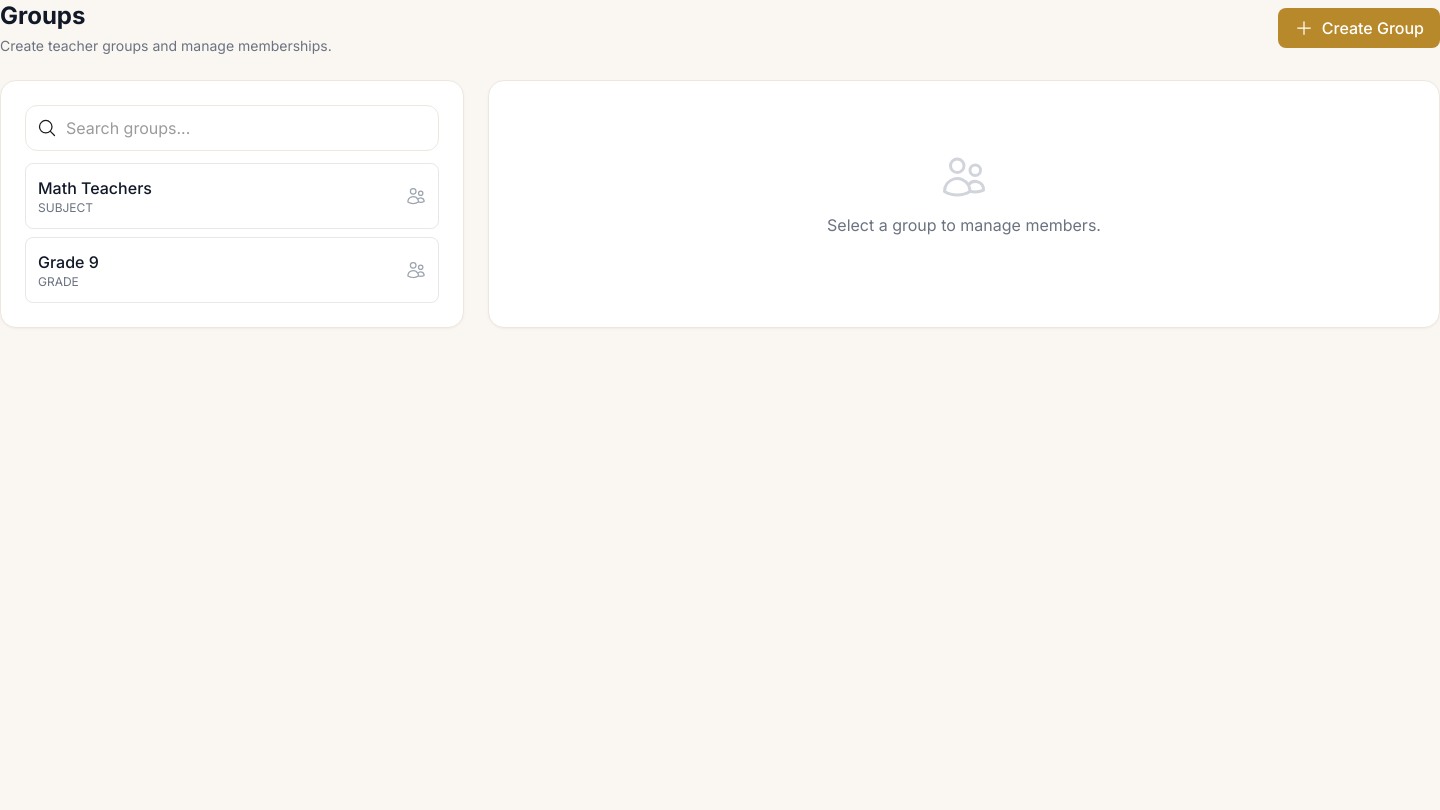
Test: GroupsPage › create group modal › submitting without a name shows Zod validation error
What coordinates should you click on to do the following:
click the button "Create Group"
I would click on:
 (1359, 28)
Its box is [1278,8,1439,48].
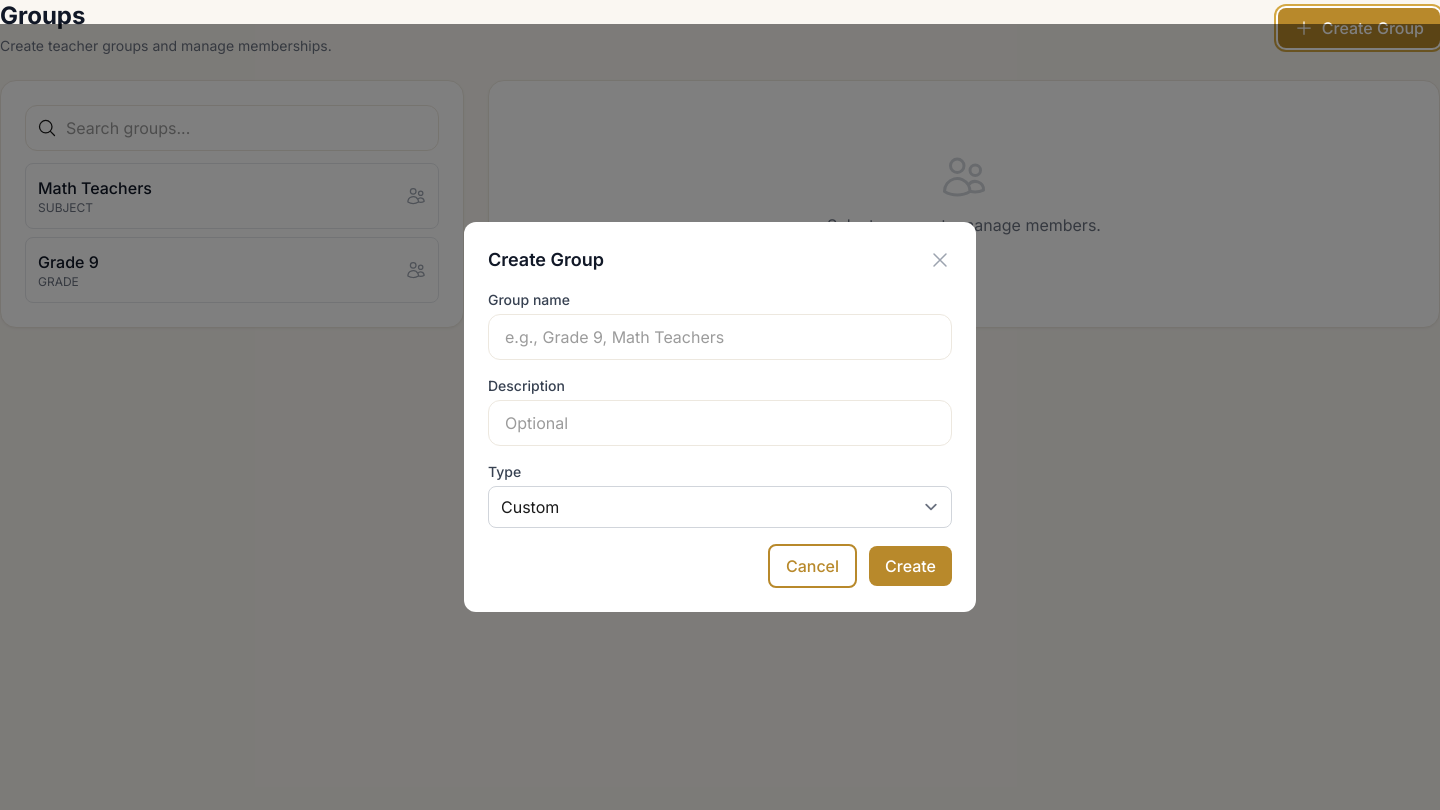
What coordinates should you click on to do the following:
click the button "Create"
I would click on:
 (910, 566)
Its box is [869,546,952,586].
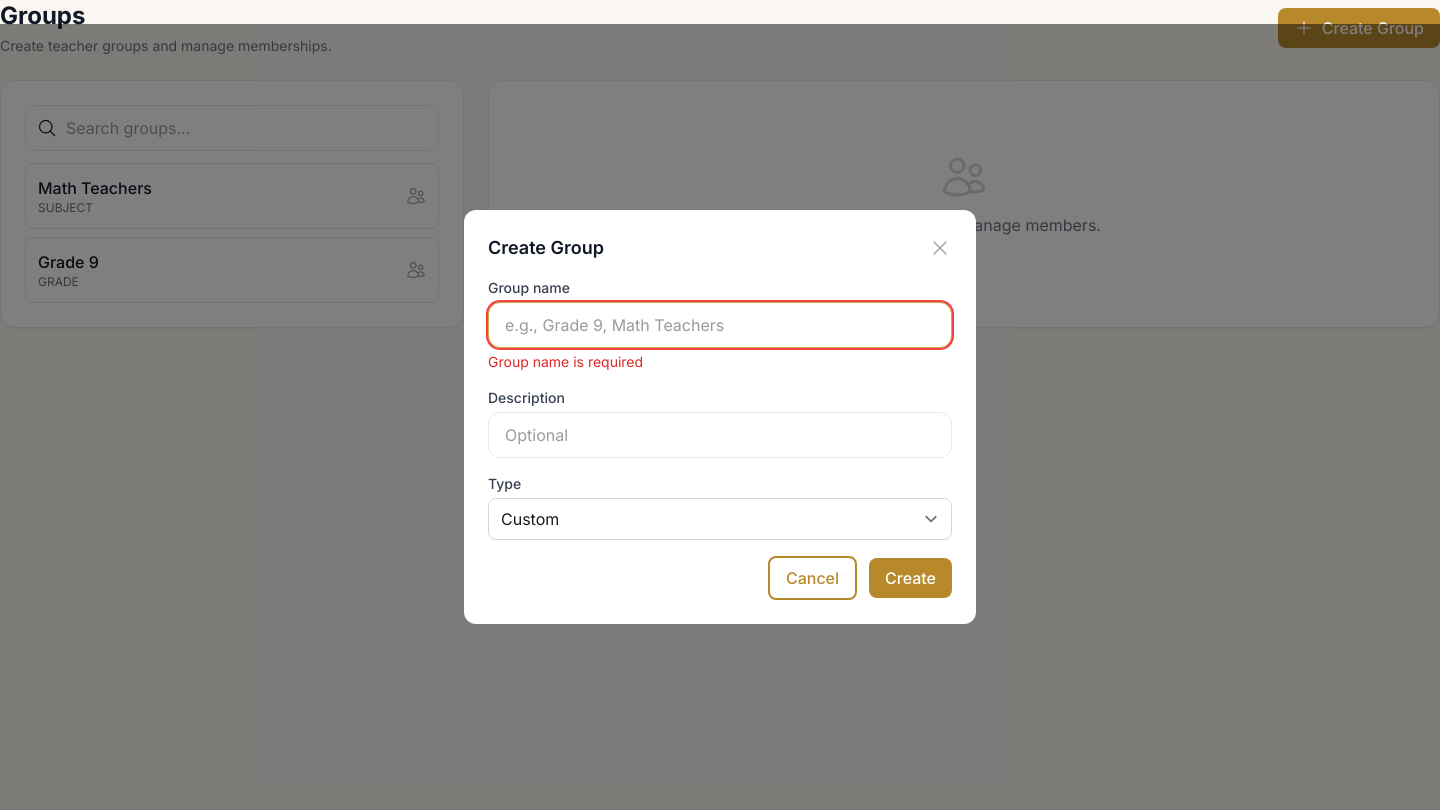
Result: the text "Group name is required" is shown at [488,353,643,370]
